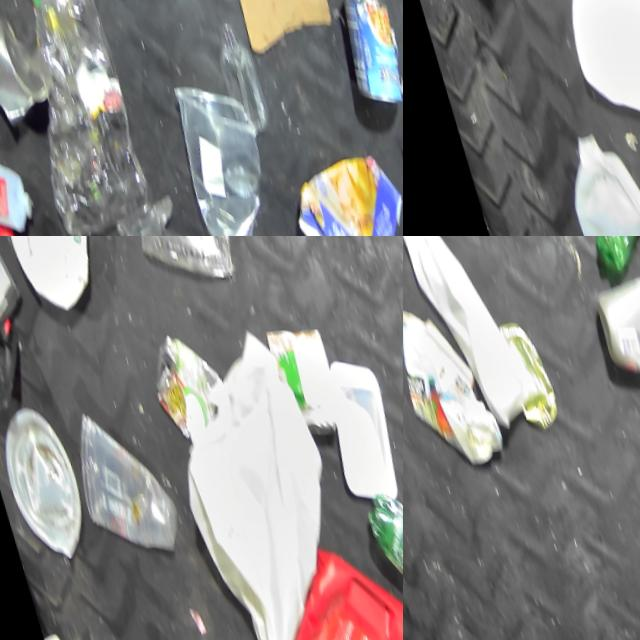can: (130, 320, 229, 457), (250, 314, 347, 444), (319, 0, 403, 117), (489, 310, 561, 433), (0, 0, 47, 138), (379, 91, 403, 225)
milk_jug: (134, 309, 371, 640), (544, 118, 640, 236), (0, 236, 120, 324)
non_white_jug: (403, 236, 549, 440), (251, 520, 403, 640)
plastic_bottle: (351, 469, 403, 640), (146, 205, 265, 236)
